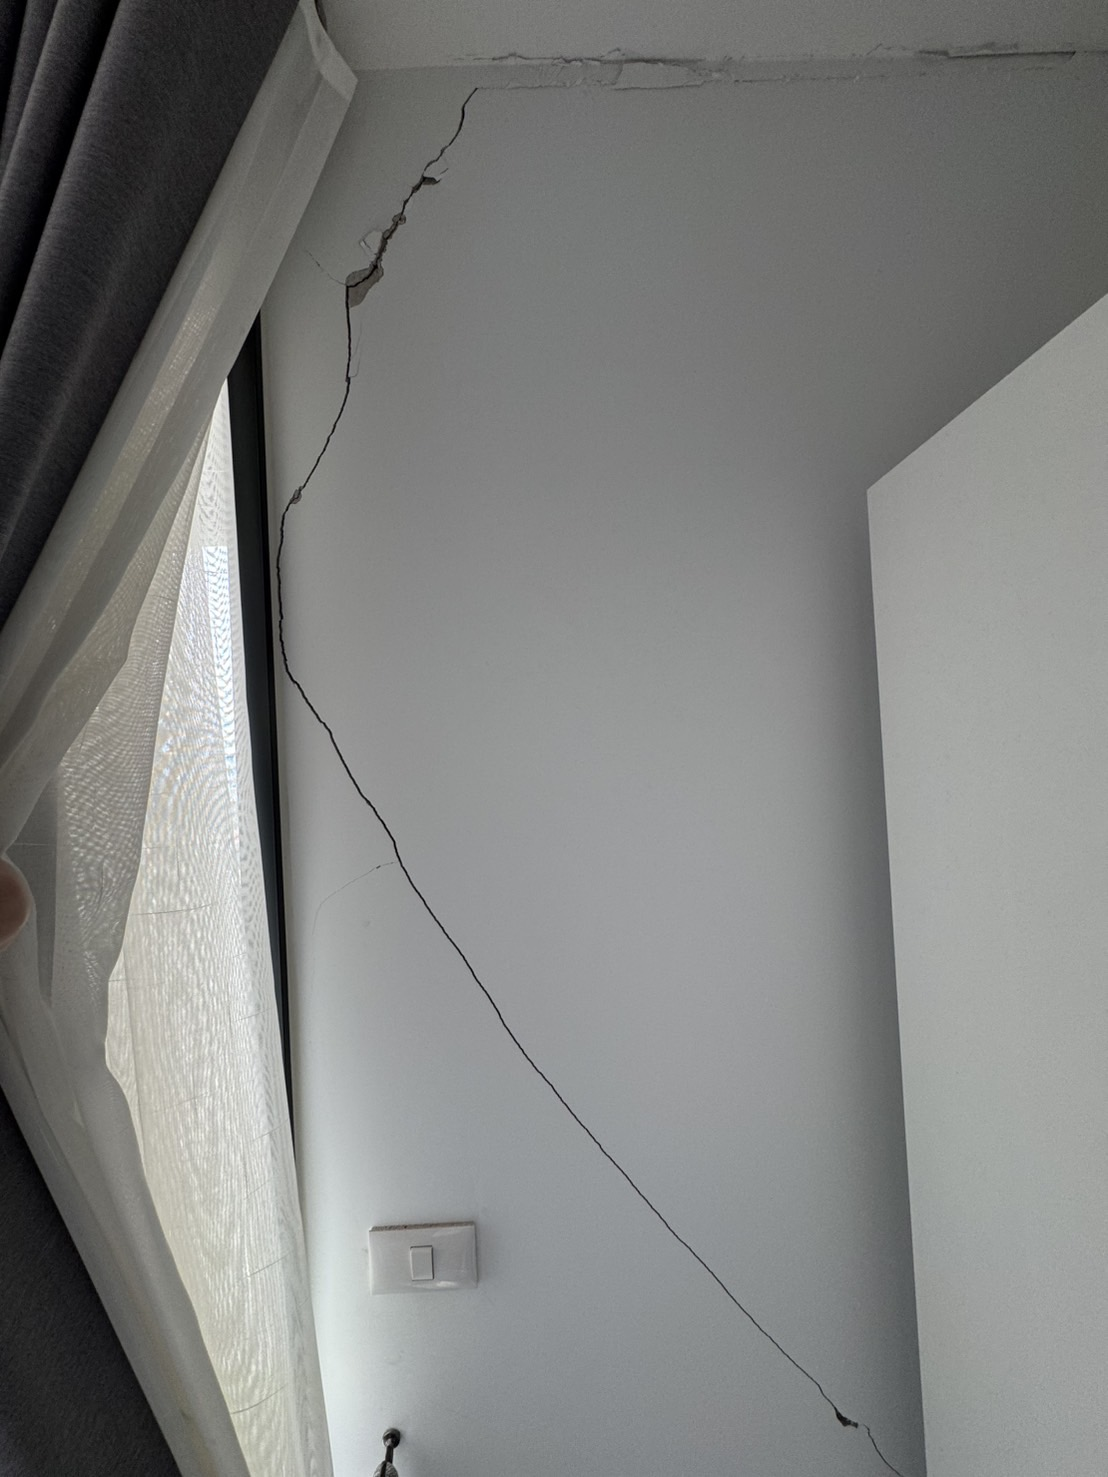Low: (269, 56, 933, 1475)
